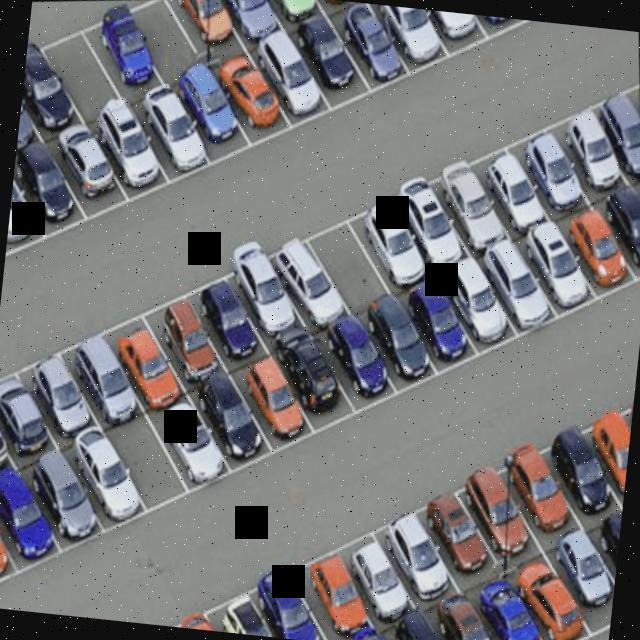space-empty: (30, 15, 130, 113), (305, 207, 394, 314), (102, 419, 197, 514), (115, 0, 207, 89)
space-occupied: (442, 460, 552, 577), (103, 301, 195, 424), (526, 419, 626, 525), (407, 479, 502, 590), (265, 216, 356, 329), (431, 248, 524, 358), (364, 501, 463, 604), (484, 439, 582, 542), (327, 514, 418, 624), (286, 535, 381, 640), (236, 353, 330, 458), (64, 428, 156, 535), (74, 0, 168, 103), (513, 220, 605, 325), (191, 370, 281, 477), (478, 238, 570, 342), (326, 0, 422, 98), (25, 331, 106, 445), (191, 260, 272, 373), (148, 398, 243, 494), (227, 231, 310, 340), (542, 519, 620, 634), (398, 278, 488, 377), (348, 197, 437, 297), (270, 330, 358, 431), (24, 447, 105, 556), (168, 71, 259, 167), (289, 12, 377, 111), (69, 320, 146, 432), (154, 285, 234, 392), (357, 297, 443, 396), (251, 31, 337, 130), (559, 198, 640, 303), (316, 314, 399, 412), (503, 553, 595, 640), (90, 112, 177, 204), (387, 170, 465, 272), (47, 118, 128, 216), (509, 113, 592, 208), (548, 97, 633, 189), (212, 55, 297, 147), (8, 141, 89, 235), (243, 560, 337, 640), (0, 346, 61, 467), (427, 161, 509, 251), (18, 32, 86, 140), (130, 92, 213, 180), (564, 398, 633, 503), (473, 142, 551, 229), (361, 4, 452, 78), (0, 467, 66, 568), (475, 571, 562, 640), (585, 78, 640, 172), (211, 576, 292, 639), (5, 162, 52, 262), (427, 581, 503, 640), (586, 501, 623, 618), (170, 0, 240, 58), (415, 9, 491, 58), (385, 591, 458, 640), (169, 595, 246, 634), (224, 0, 283, 43), (15, 65, 40, 160), (0, 362, 17, 479), (0, 494, 20, 588)
